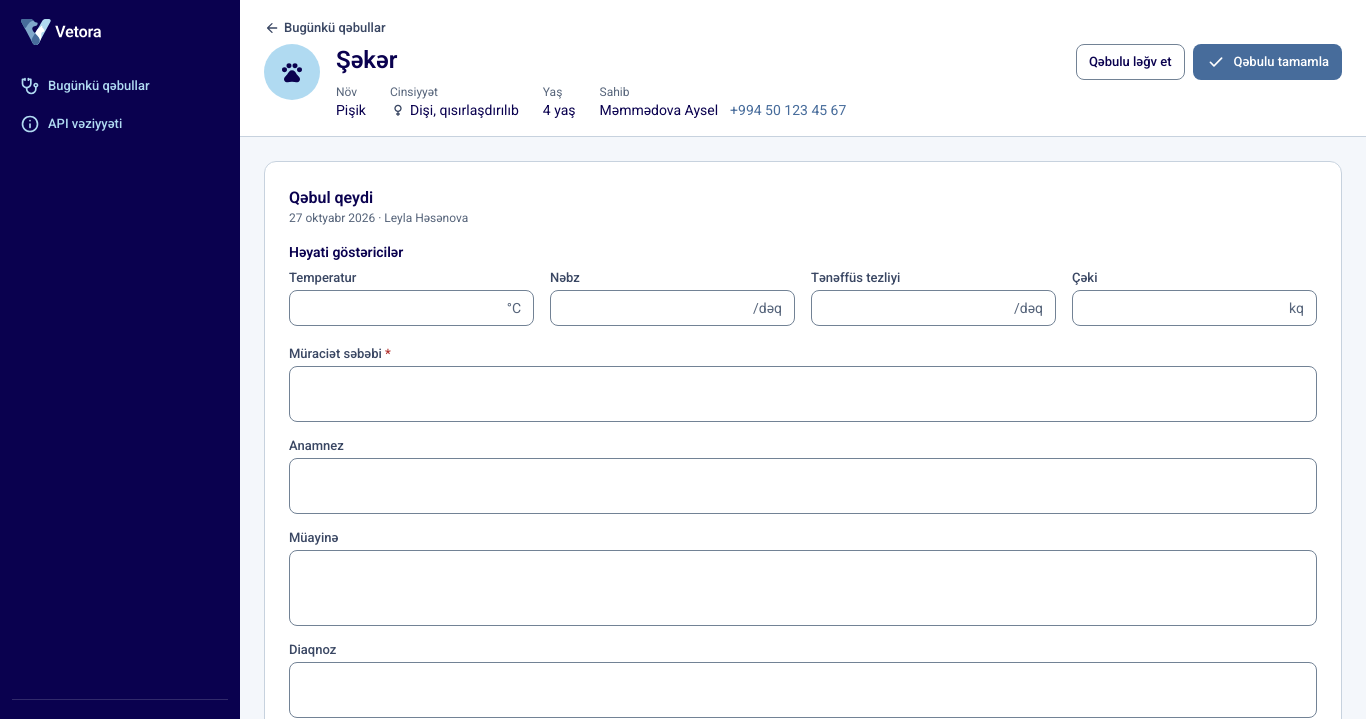
Scenario: the draft note survives a dropped connection (#24, seam 3) › in az: with no connection the line says the text is kept, and Complete visit says there is no connection; axe finds no violation
The image size is (1366, 719).
Expected: the heading "Şəkər" is shown, [336,44,397,76]
In the text box labelled "Müraciət səbəbi": (803, 394) [290,367,1316,421], type "Limping"
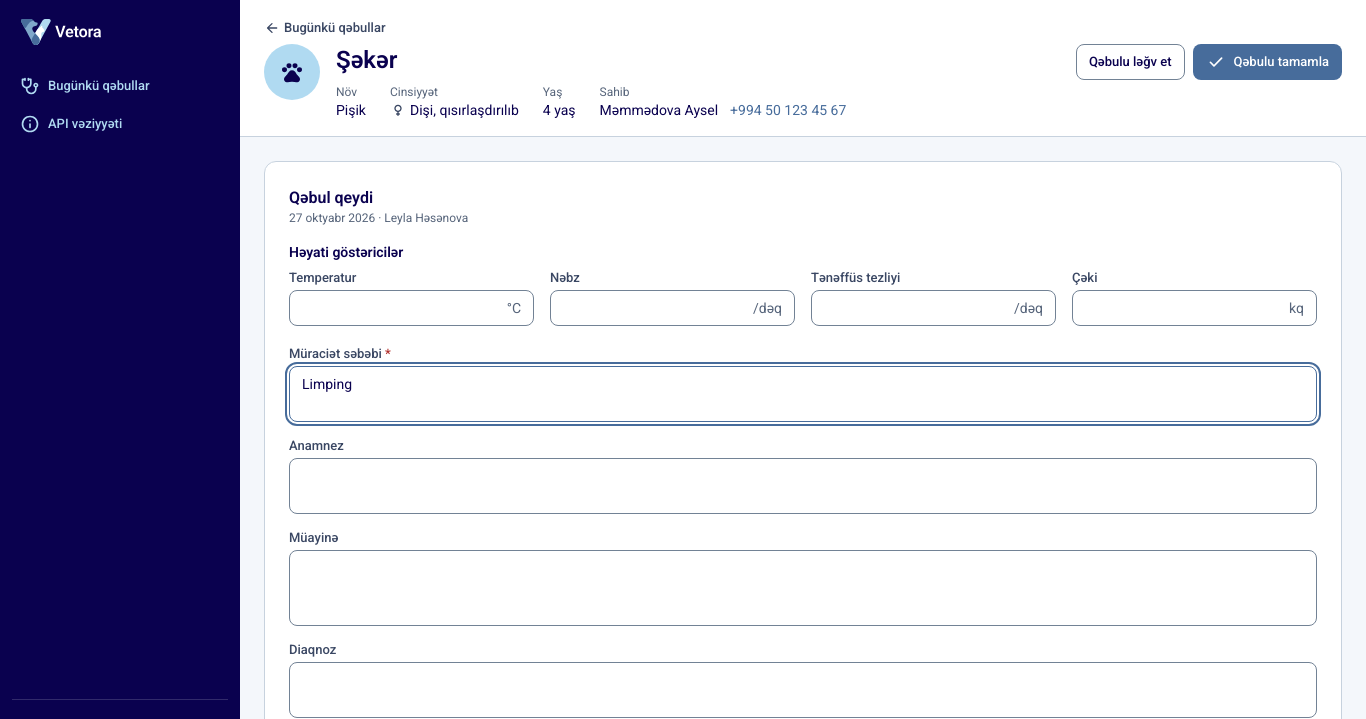
Press Tab
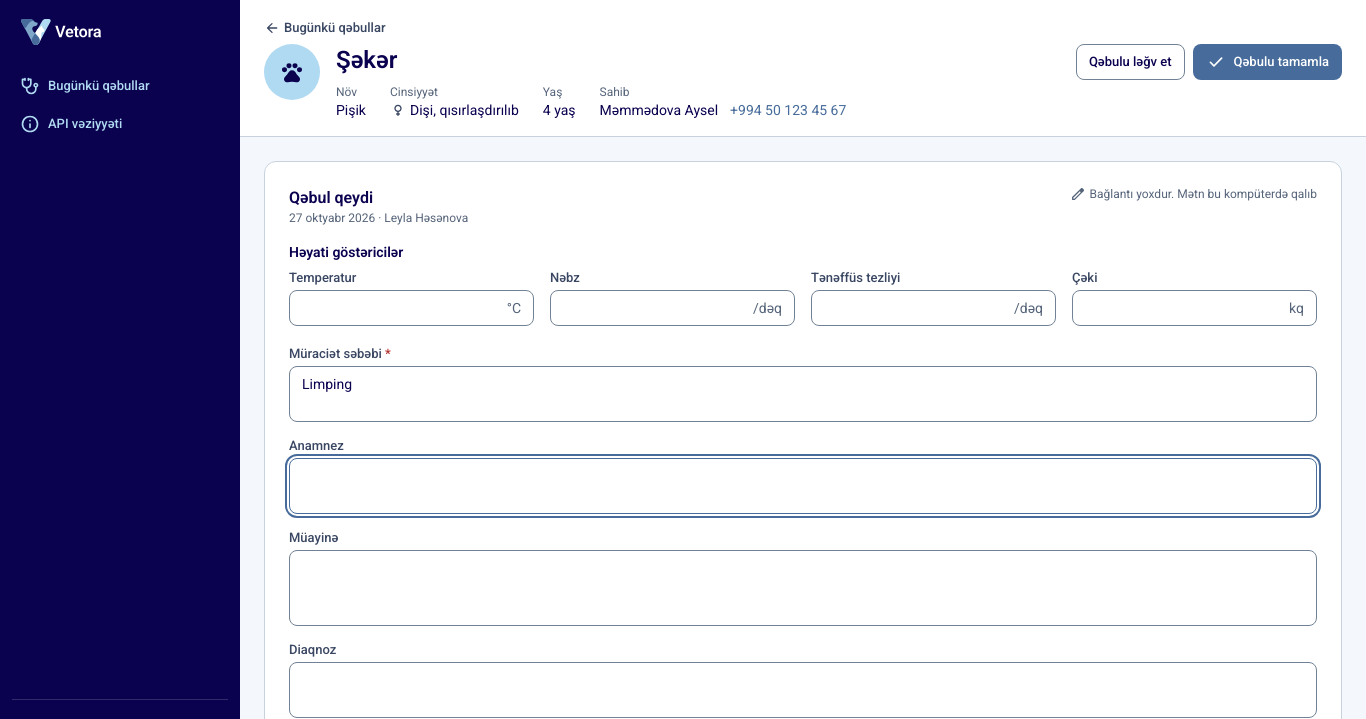
Result: the text "Bağlantı yoxdur. Mətn bu kompüterdə qalıb" is shown at [1090,186,1317,202]
Click the button "Qəbulu tamamla": (1267, 62) [1192,44,1342,80]
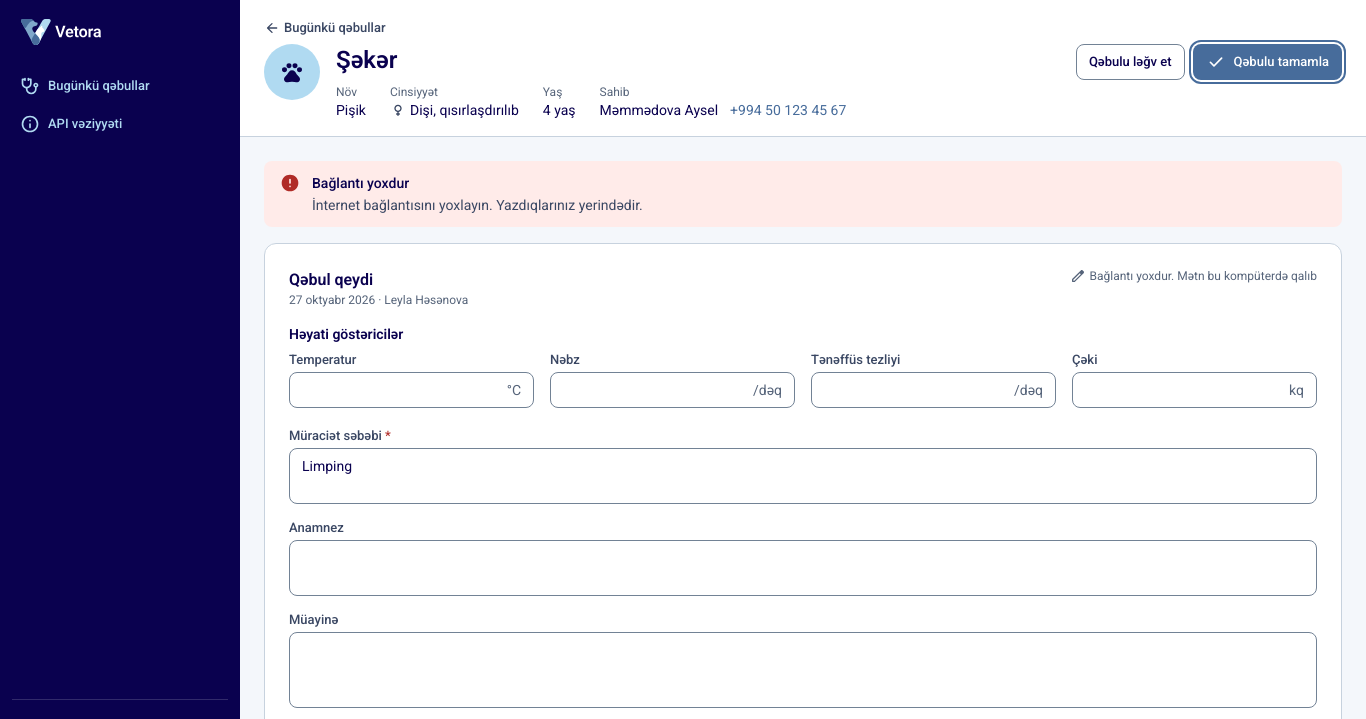
Result: the text "Bağlantı yoxdur" is shown at [312,175,409,191]
